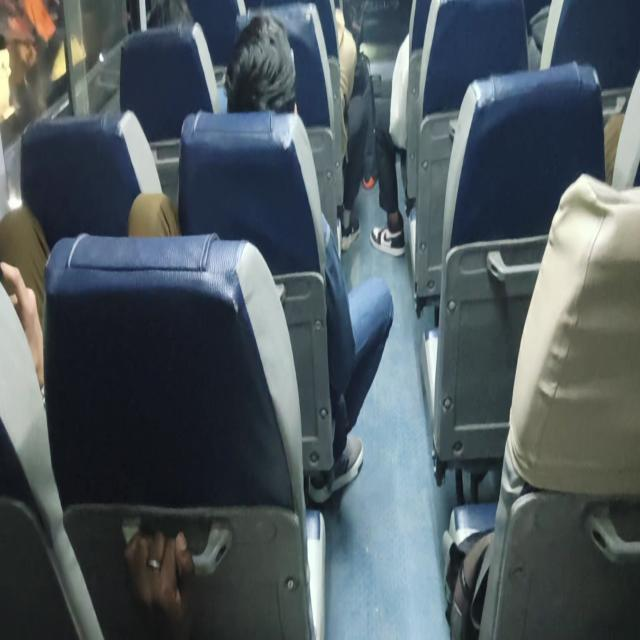person: (127, 11, 394, 498), (369, 0, 438, 257), (1, 0, 56, 208), (122, 526, 197, 636), (0, 259, 45, 402)
